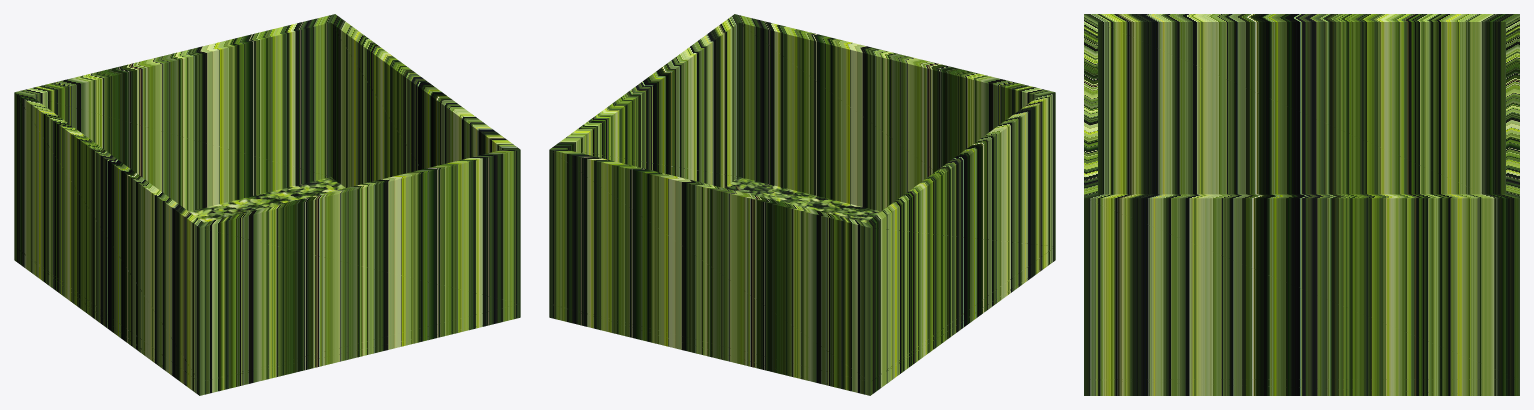
Rendered from hedge-plane.obj.
The picture shows the model from 3 angles, left to right: view 1: azimuth 30°, elevation 25°; view 2: azimuth 150°, elevation 25°; view 3: azimuth 270°, elevation 25°; orthographic projection. The views are drawn at different scales.
Visible parts, largest first — view 1: Plane; view 2: Plane; view 3: Plane.
Part boxes in pixels (<box>): Plane: <box>14,14,520,395</box>; Plane: <box>549,14,1055,395</box>; Plane: <box>1084,14,1519,395</box>.
Bounding box in the file's own units: 46.4 × 23.35 × 46.4.
Materials: 1 (1 with a texture image).
